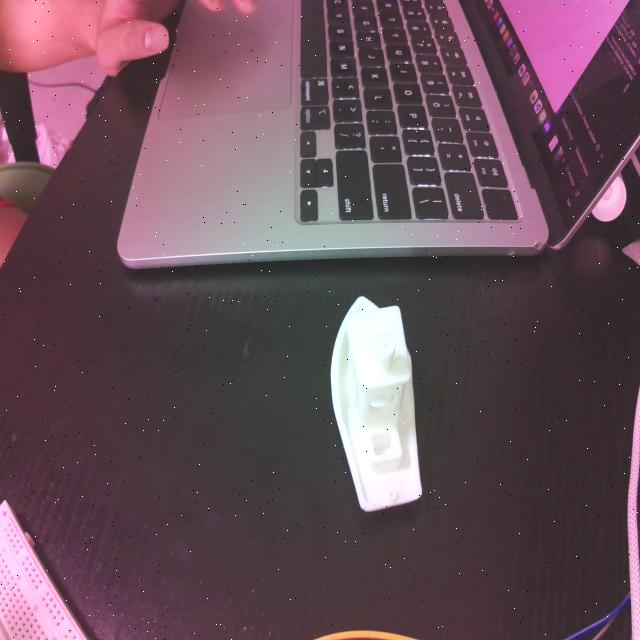ship: (330, 294, 423, 514)
